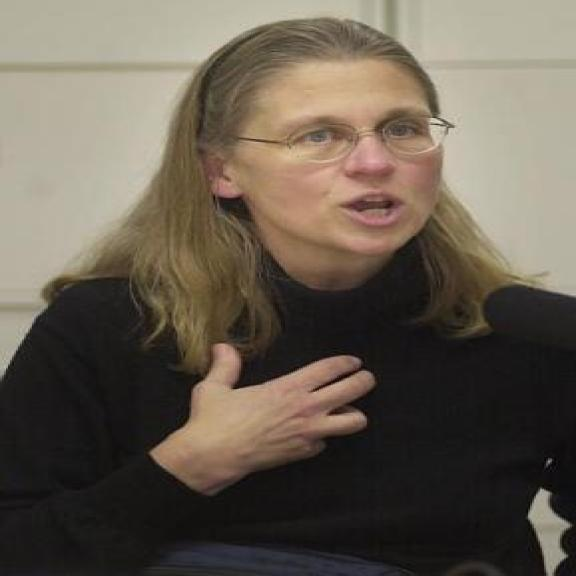face: (192, 58, 456, 267)
